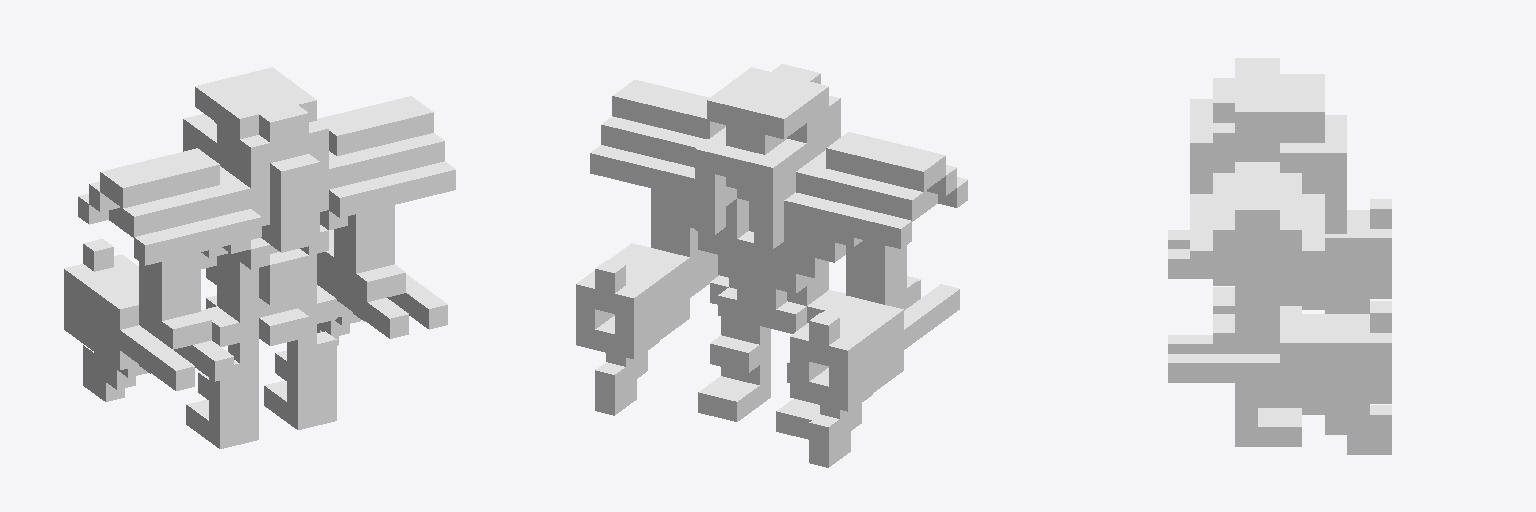
Rendered from guard_anim-00.obj.
3 renders of one model, left to right at view 1: azimuth 30°, elevation 25°; view 2: azimuth 150°, elevation 25°; view 3: azimuth 270°, elevation 25°, orthographic.
Size of the model in its own units: 16 by 16 by 10.